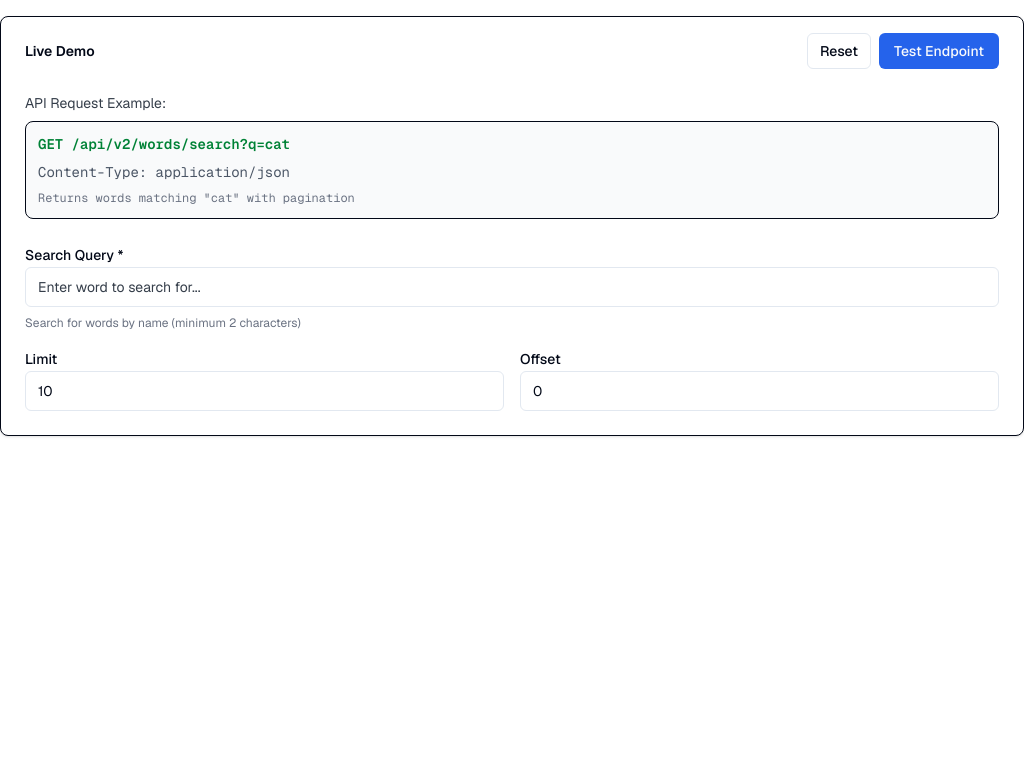
Word CRUD Integration Flow › should handle search validation errors
# Try to search with empty query
Click the button "Test Endpoint" at (939, 51), box x1=879 y1=33 x2=999 y2=69
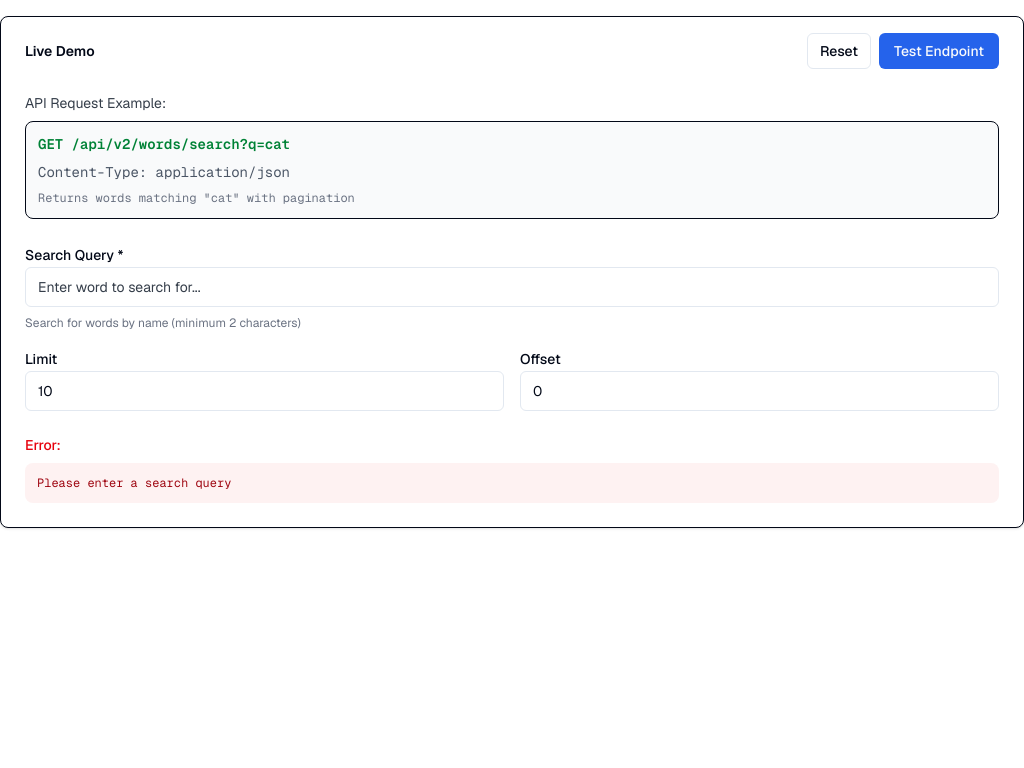
expect the heading "Error:" is shown: met, box x1=25 y1=436 x2=61 y2=454
